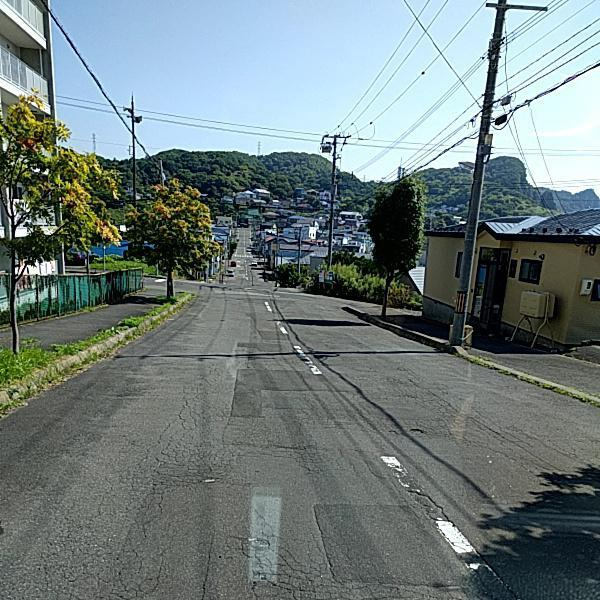D20: (74, 361, 360, 599)
D44: (378, 453, 514, 594)
